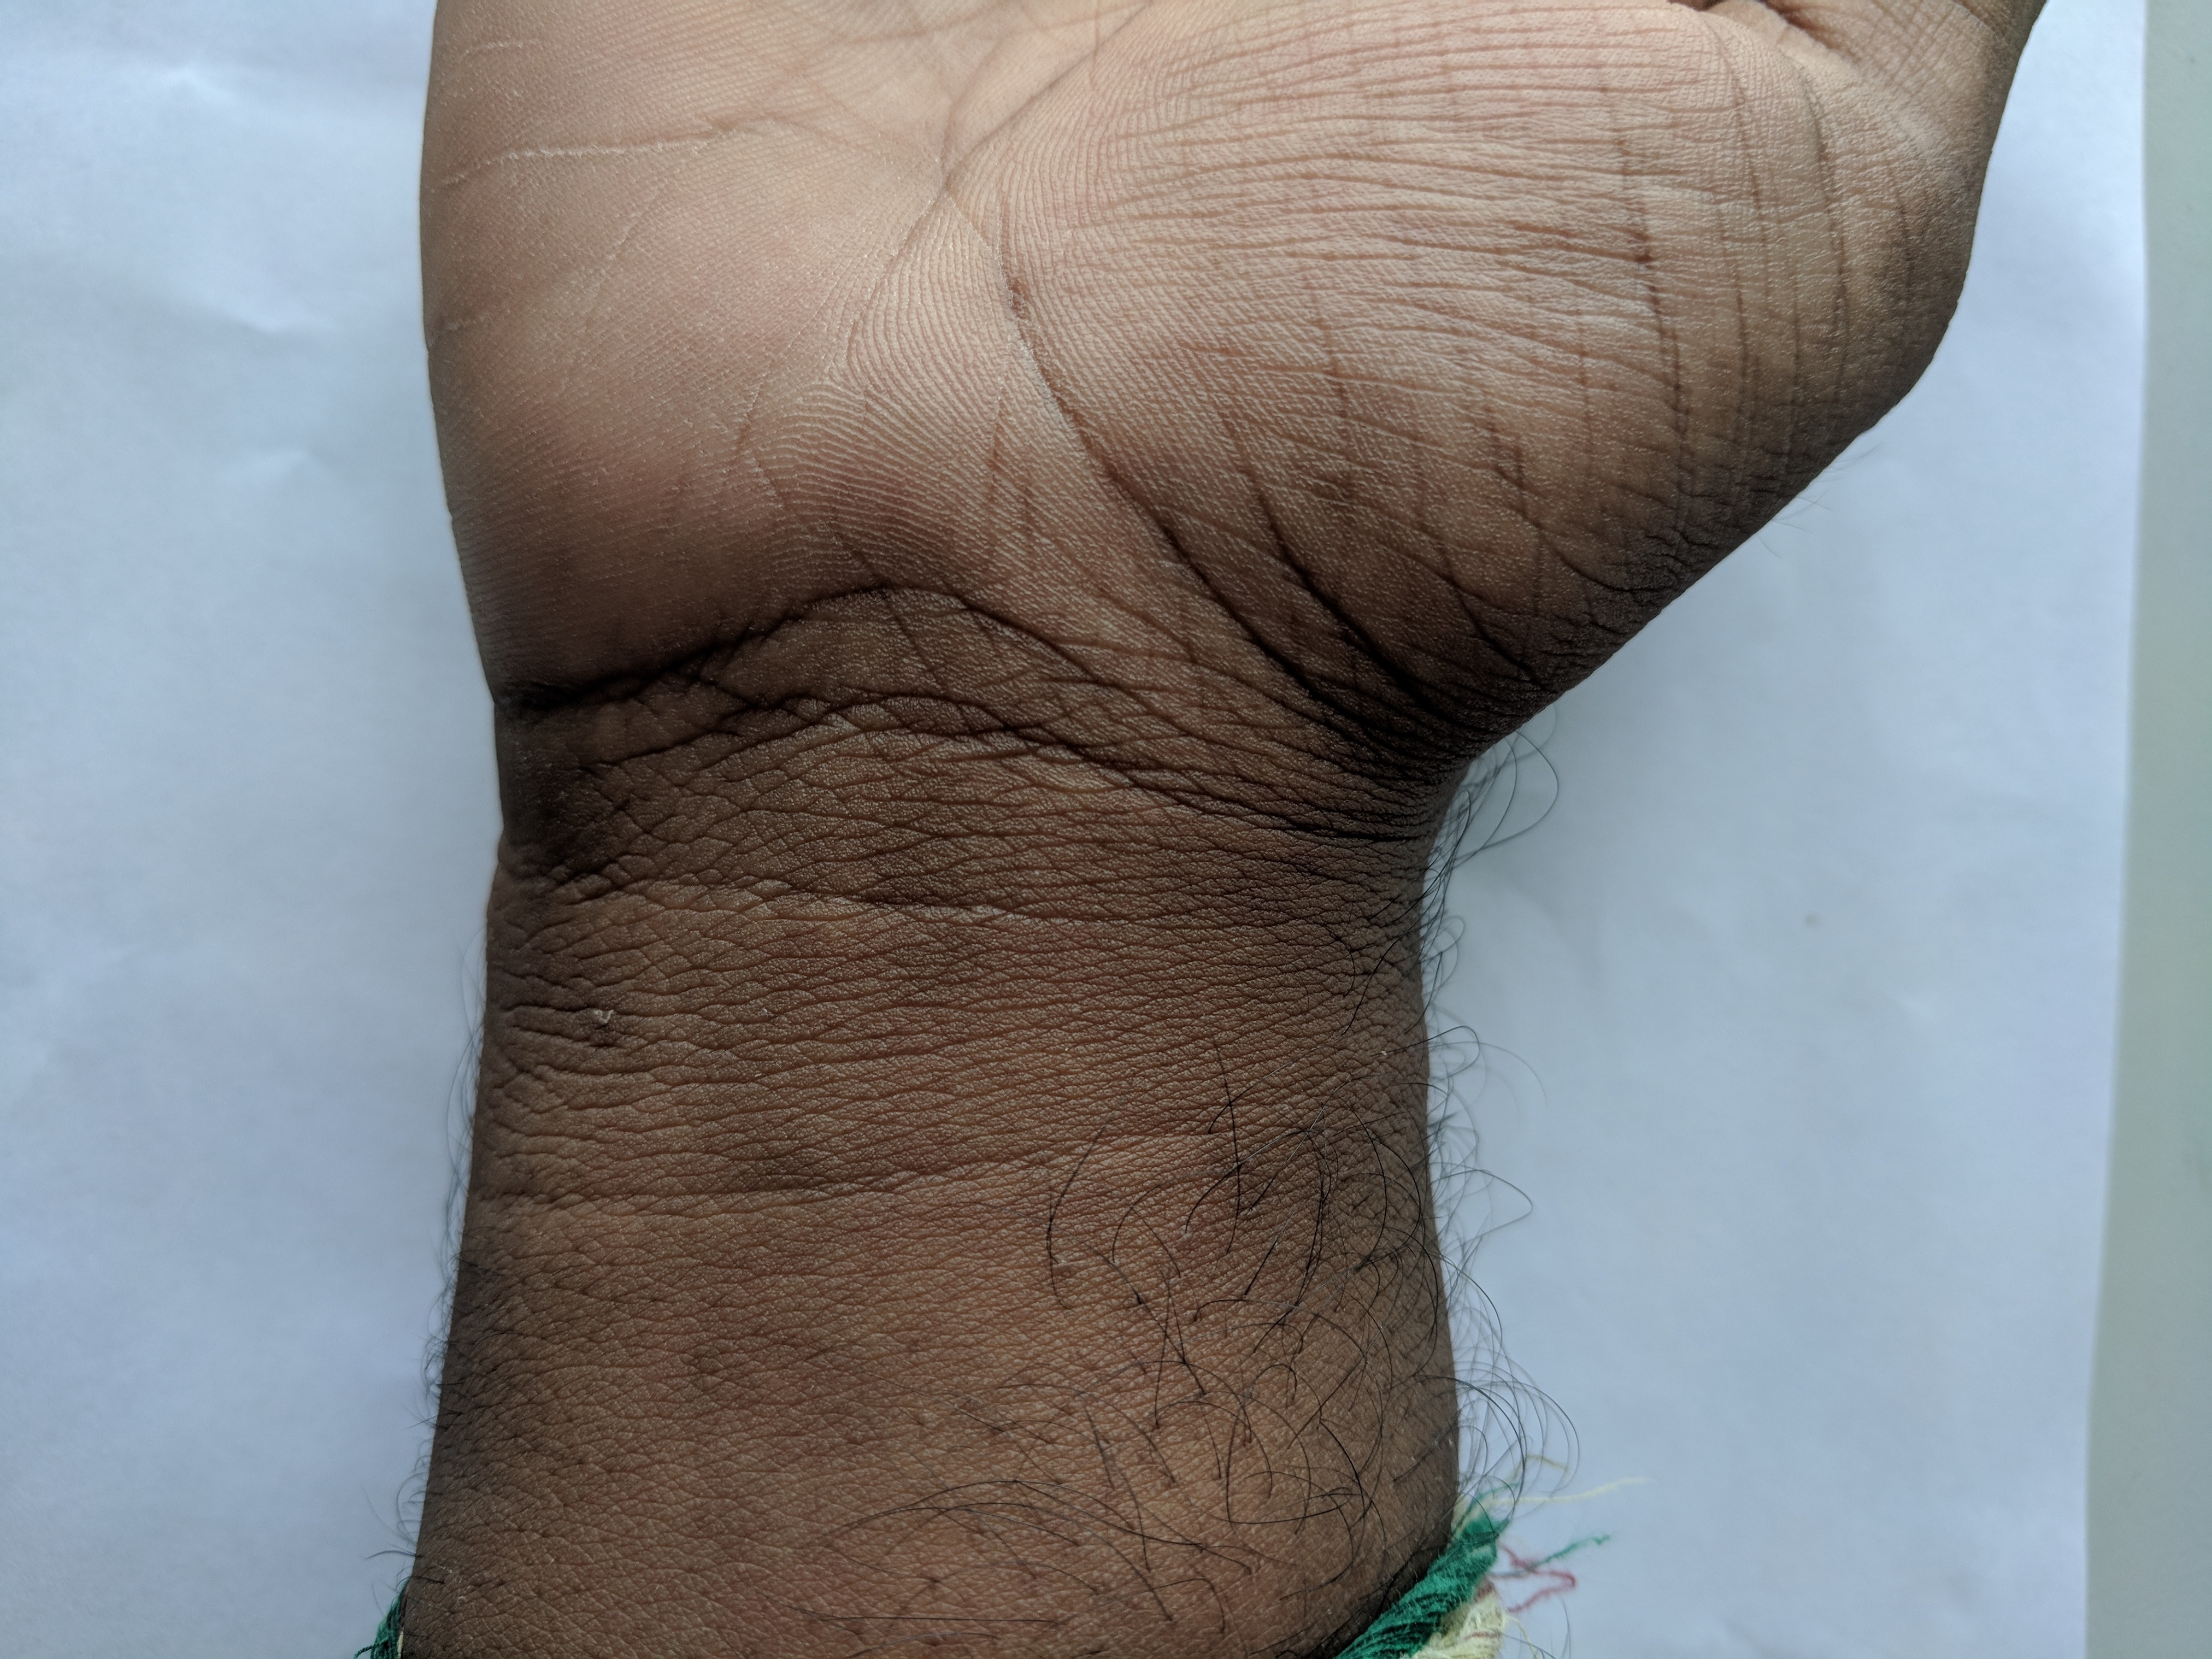righthandwrist: (470, 613, 1660, 1070)
